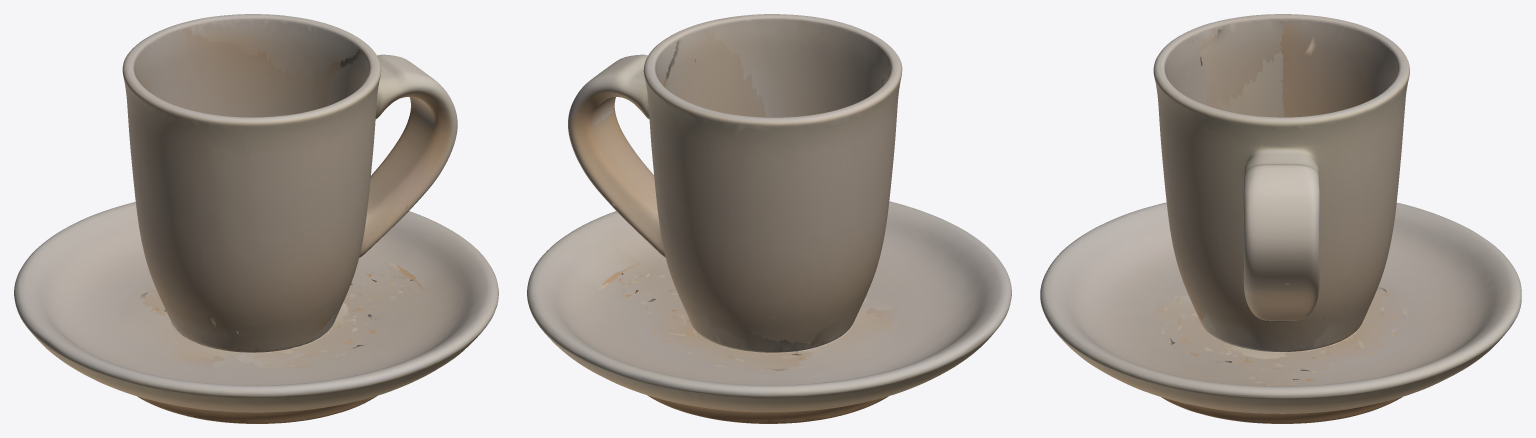
Rendered from foodify-mug-s15-t1024.glb.
The picture shows the model from 3 angles, left to right: view 1: azimuth 30°, elevation 25°; view 2: azimuth 150°, elevation 25°; view 3: azimuth 270°, elevation 25°; orthographic projection.
Visible parts, largest first — view 1: texture_pbr_v128; view 2: texture_pbr_v128; view 3: texture_pbr_v128.
Boxes of the visible parts, x1,y1,x2,y2 form: texture_pbr_v128: [14, 14, 498, 423]; texture_pbr_v128: [527, 14, 1011, 423]; texture_pbr_v128: [1040, 14, 1521, 423].
Bounding box in the file's own units: 0.1683 × 0.1143 × 0.1683.
Materials: 1 (1 with a texture image).
